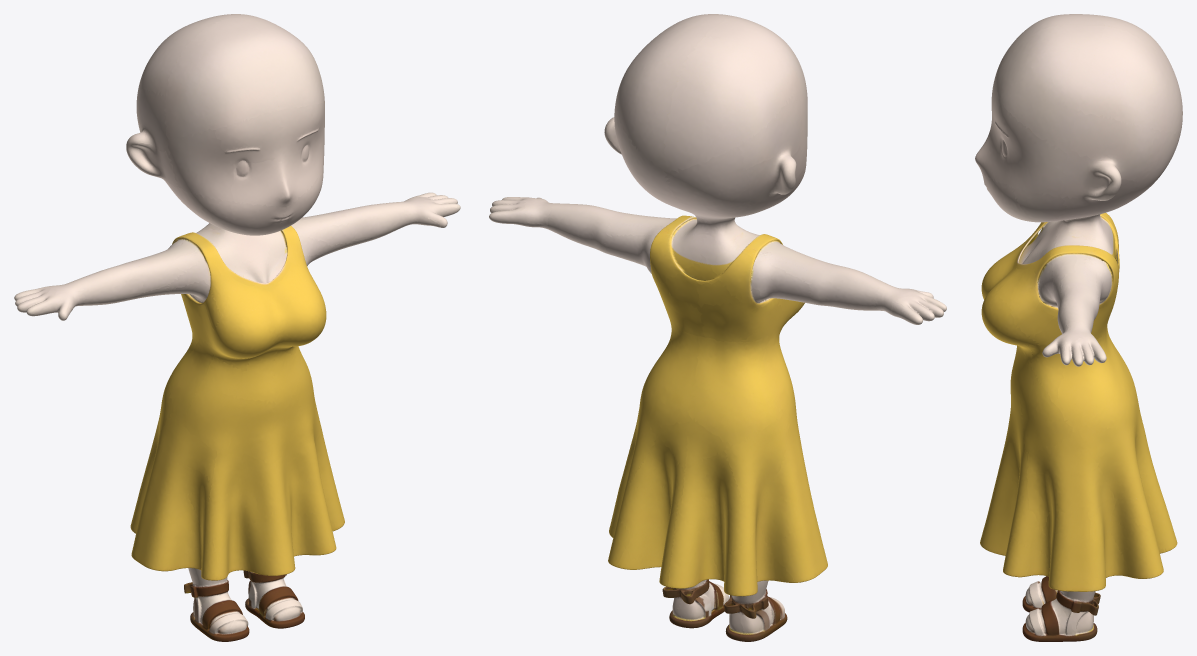
The model's file is baked_outfit_dress.glb.
The picture shows the model from 3 angles, left to right: view 1: azimuth 30°, elevation 25°; view 2: azimuth 150°, elevation 25°; view 3: azimuth 270°, elevation 25°; orthographic projection. The views are drawn at different scales.
Bounding box in the file's own units: 1.49 × 1.9 × 0.6012.
Materials: 1 (1 with a texture image).
